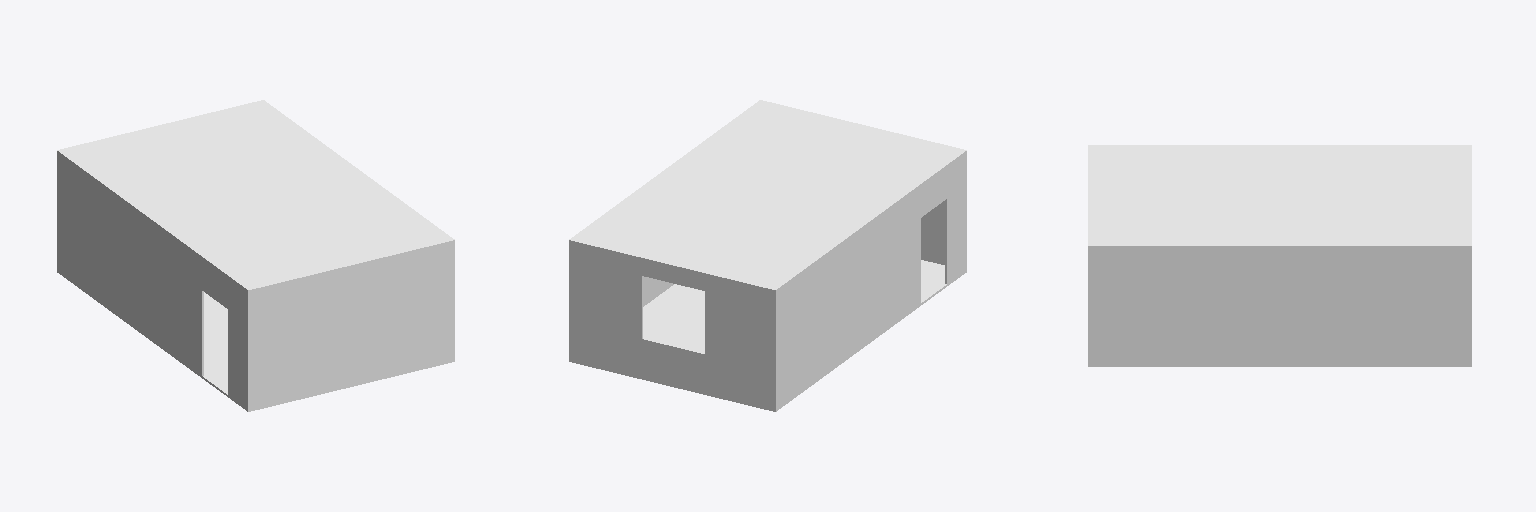
File: Habitacion.obj
3 views of the same model, side by side, from view 1: azimuth 30°, elevation 25°; view 2: azimuth 150°, elevation 25°; view 3: azimuth 270°, elevation 25° (orthographic).
Visible parts, largest first — view 1: object 1; view 2: object 1; view 3: object 1.
Part boxes in pixels (bbox=[...]): object 1: bbox=[57, 100, 454, 411]; object 1: bbox=[569, 100, 966, 411]; object 1: bbox=[1088, 145, 1471, 366].
Size of the model in its own units: 9.6 by 5.4 by 15.4.